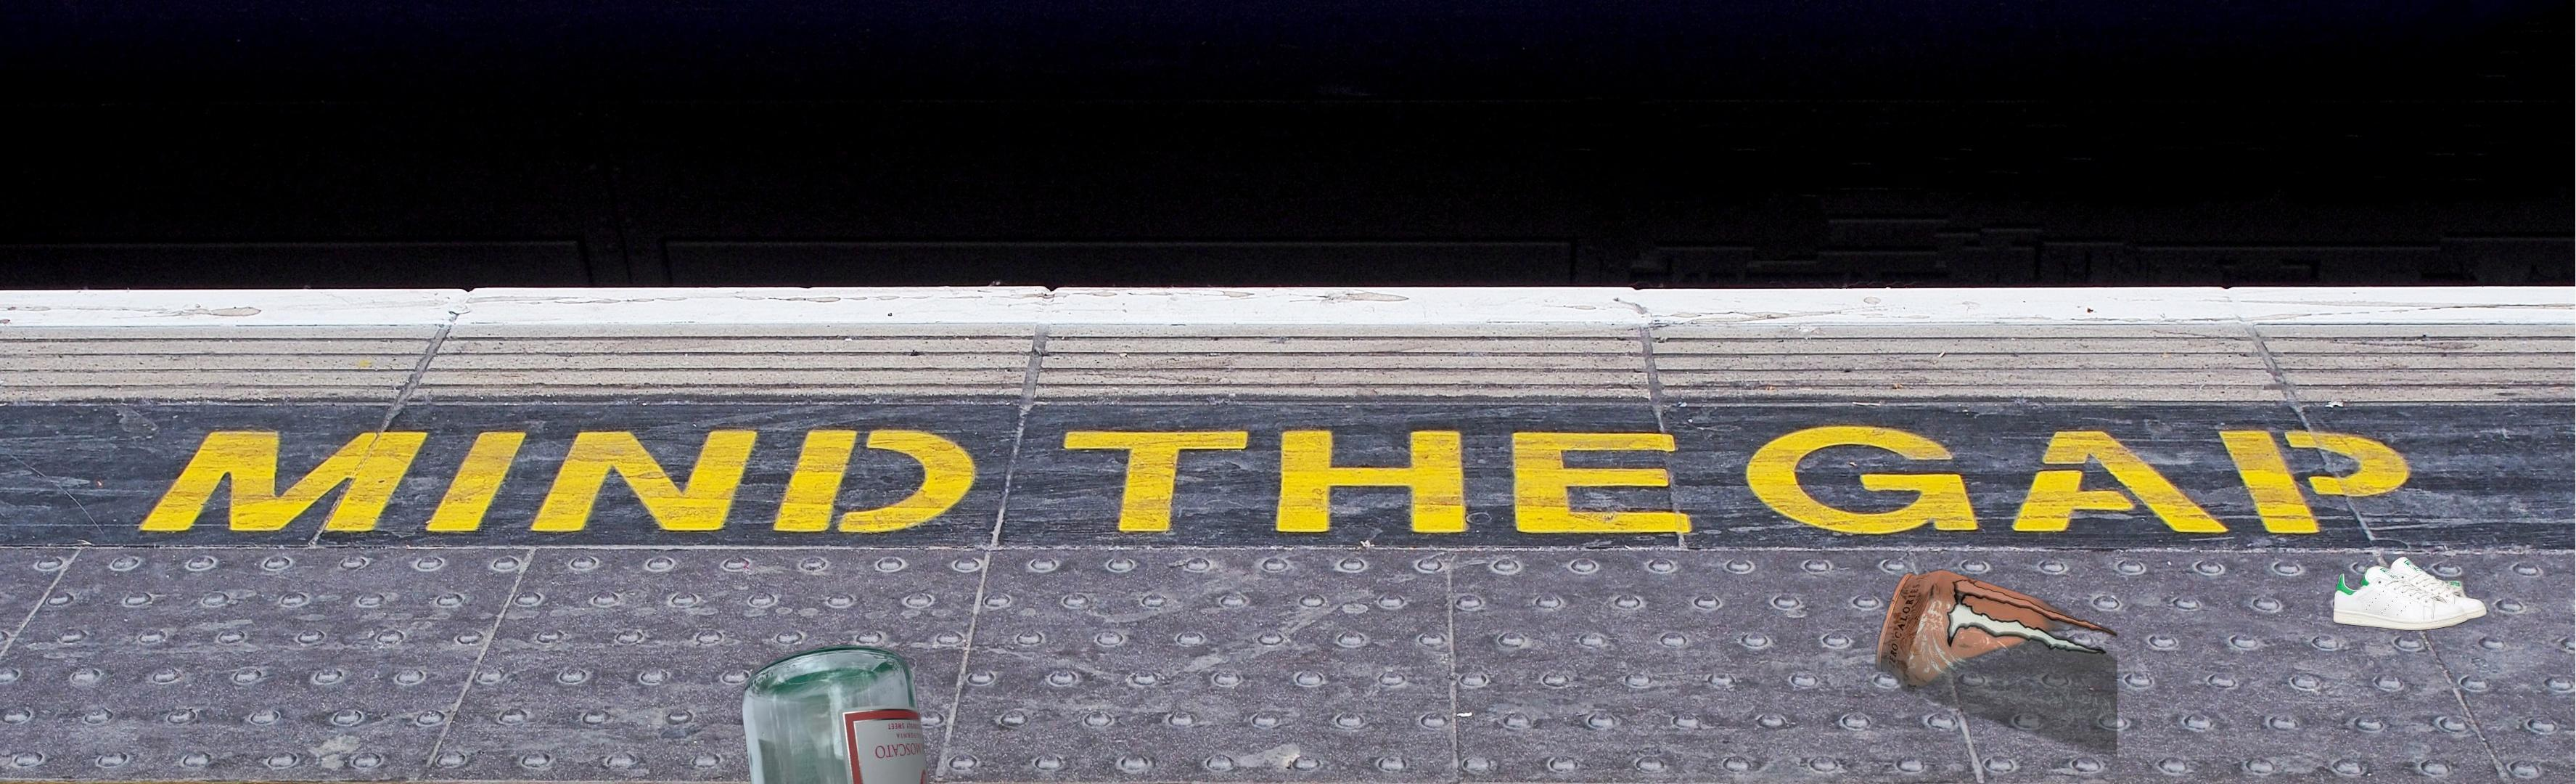glass: (739, 643, 950, 784)
metal-cans: (1873, 567, 2118, 774)
shoes: (2331, 554, 2489, 633)
